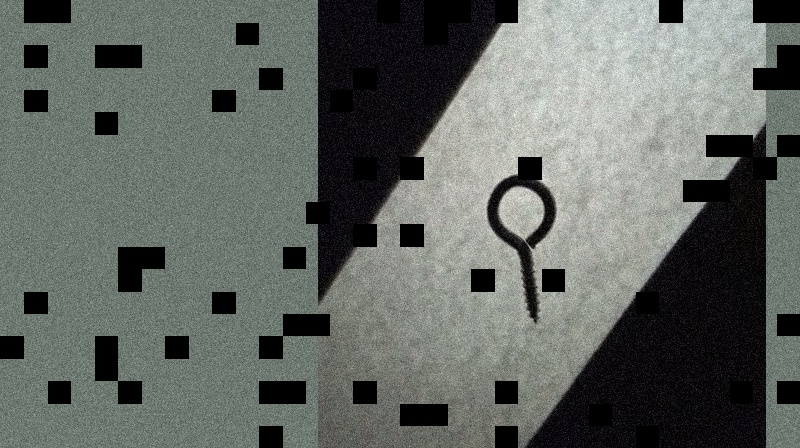O001: (483, 172, 557, 325)
